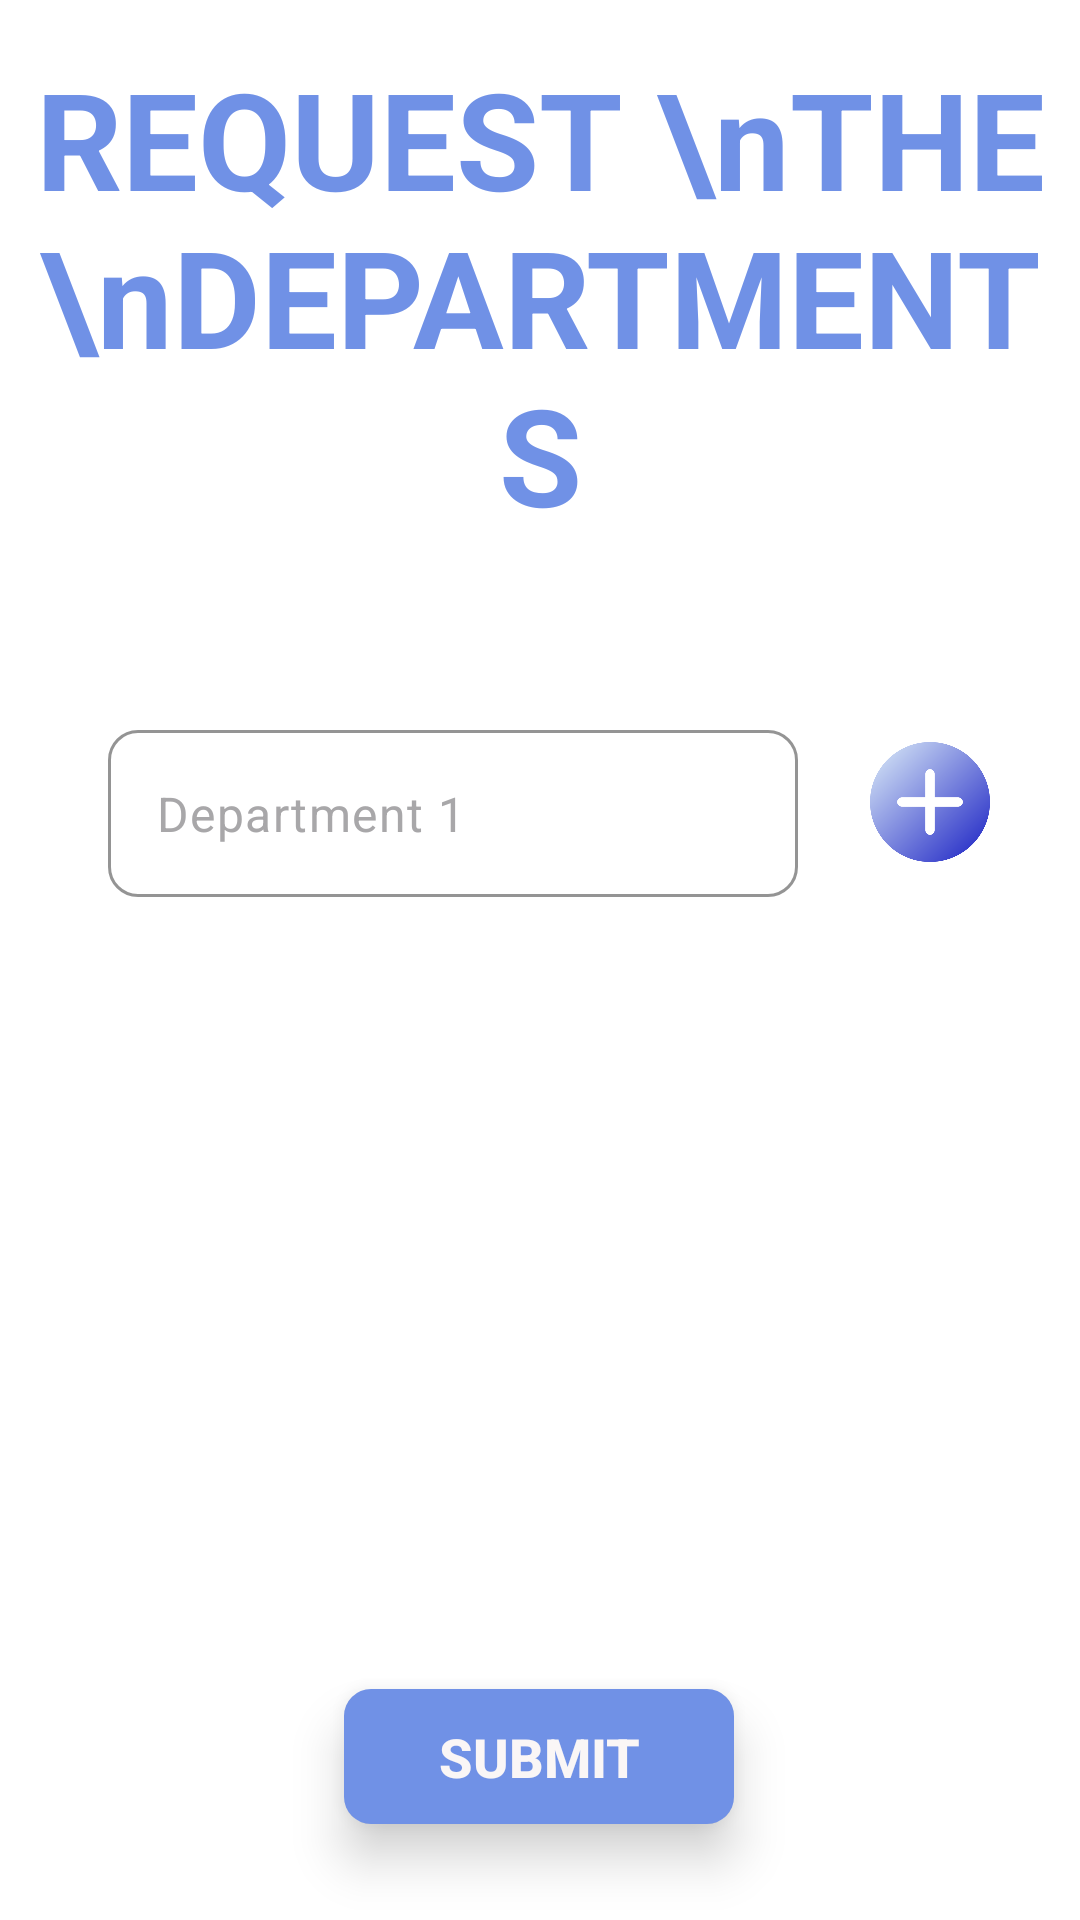

Named icons in this screenshot (1080 x 1920) and their centers, point (x, y):
adddept: point (930, 802)
